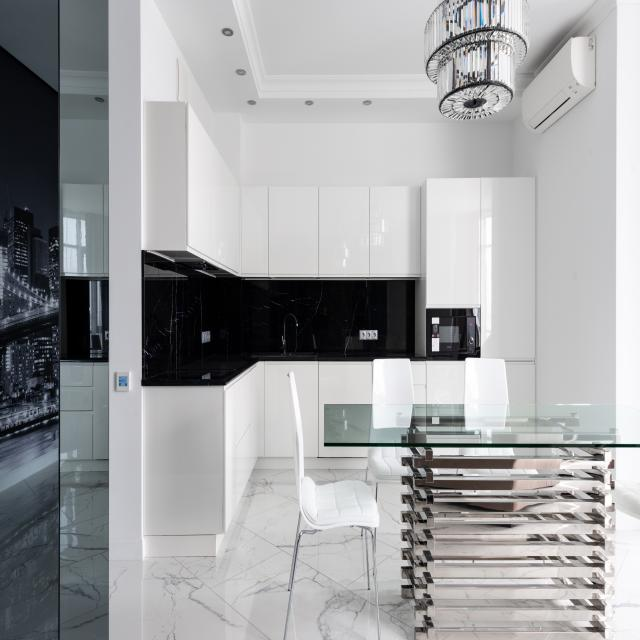floor: (109, 457, 300, 640), (285, 525, 379, 640), (375, 482, 424, 640)
wall: (512, 5, 617, 404), (108, 0, 143, 561), (140, 0, 213, 250), (243, 122, 513, 185), (616, 0, 640, 411), (213, 113, 241, 186), (239, 113, 243, 186)
